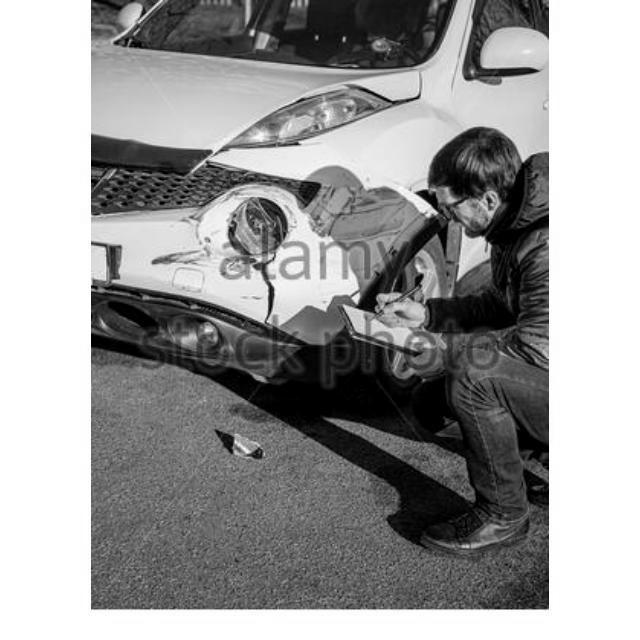front-bumper-dent: (127, 170, 418, 359)
